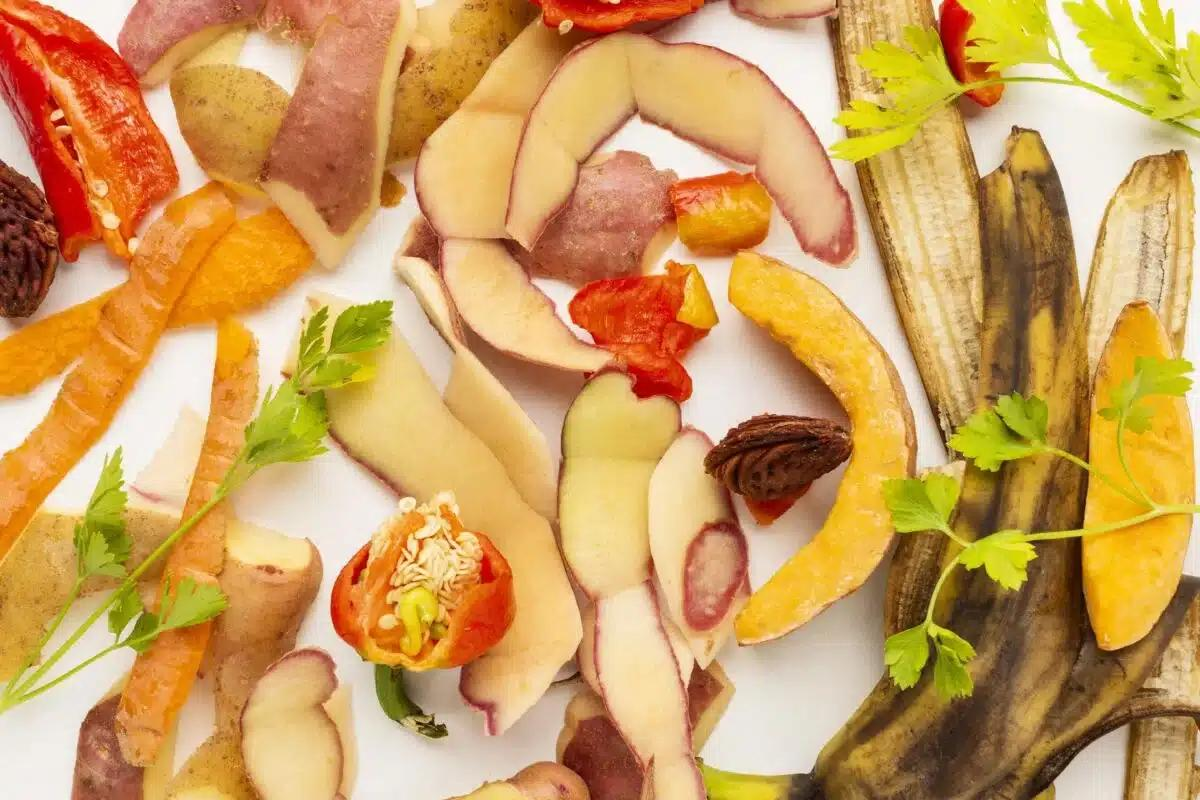organic: (503, 28, 870, 257), (963, 129, 1087, 800), (723, 244, 914, 643), (414, 24, 620, 373), (831, 0, 982, 466), (115, 315, 258, 767), (557, 370, 707, 800), (4, 0, 181, 260), (256, 0, 412, 276), (1078, 300, 1179, 656), (329, 492, 516, 670), (650, 427, 747, 672), (237, 643, 348, 800), (663, 152, 772, 249), (0, 150, 61, 320)
